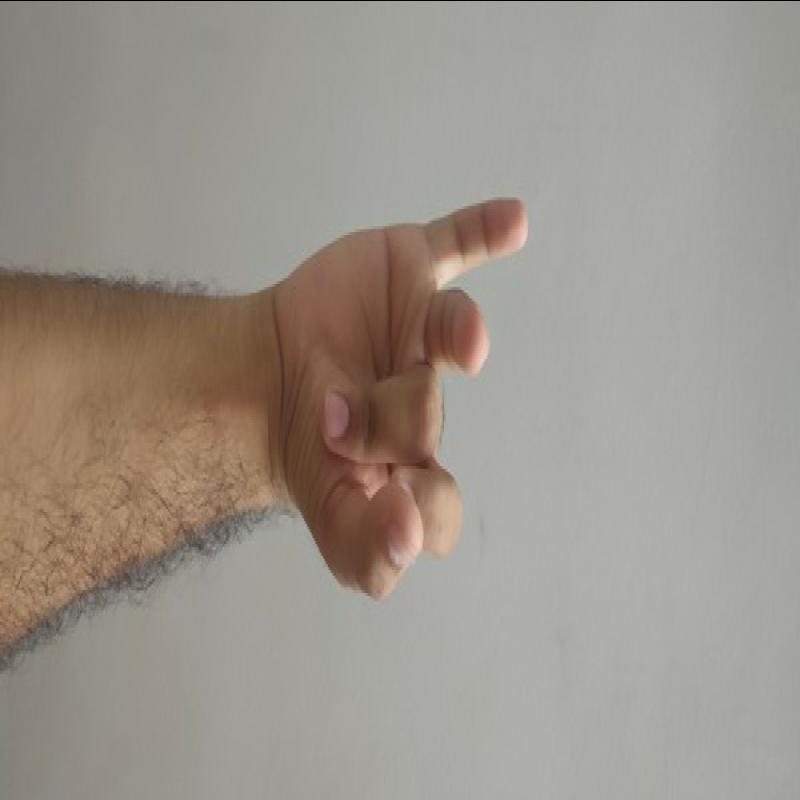Katakam: (278, 165, 538, 609)
